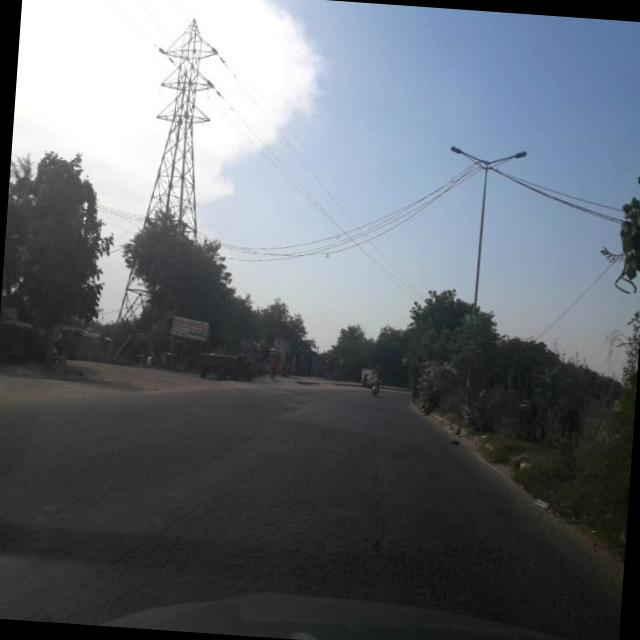crack: (63, 416, 595, 614), (360, 412, 404, 556)
